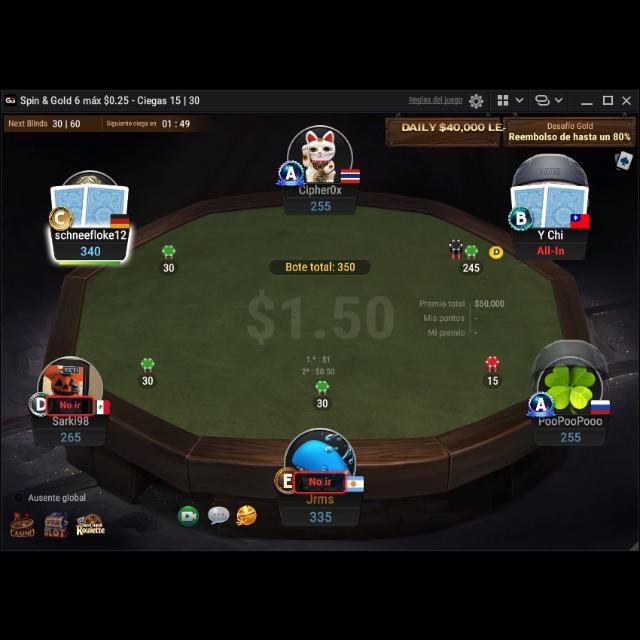all_in_symbol: (536, 241, 564, 253)
bet_text: (461, 259, 481, 271), (141, 370, 155, 382), (316, 394, 329, 406), (162, 260, 176, 270), (488, 372, 500, 383)
card_back: (540, 176, 590, 228), (80, 177, 130, 227), (509, 178, 553, 226), (48, 180, 92, 227)
dealer: (488, 240, 504, 258)
pot_text: (282, 256, 358, 270)
stack_text: (78, 240, 104, 256), (309, 504, 333, 520), (59, 426, 83, 440), (560, 426, 582, 440), (310, 195, 332, 209)
